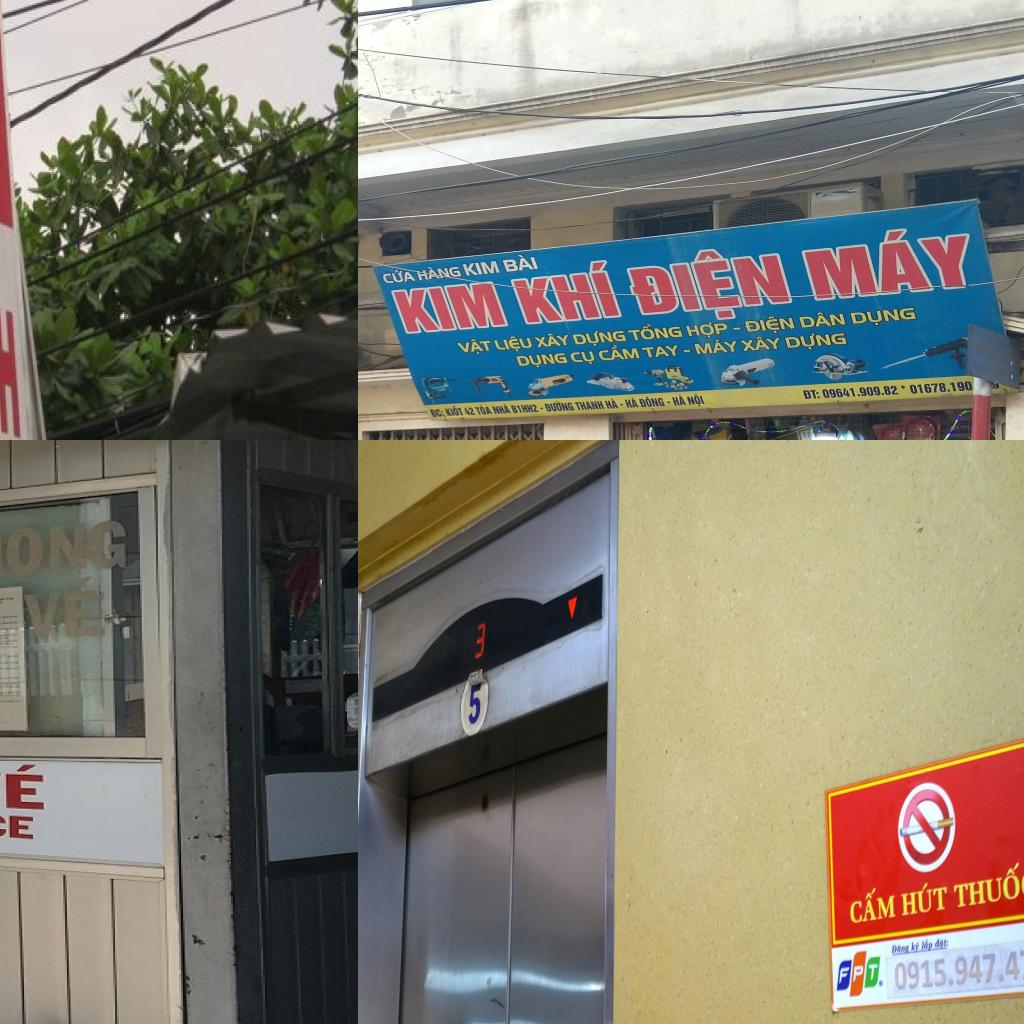text: (618, 241, 798, 326), (796, 218, 974, 303), (0, 517, 131, 581), (507, 258, 624, 326), (390, 281, 510, 335), (22, 573, 101, 642), (952, 854, 1024, 910), (0, 762, 49, 812), (847, 882, 899, 928), (899, 875, 948, 922), (848, 306, 920, 329), (782, 330, 851, 354), (0, 806, 36, 842), (624, 321, 685, 342), (821, 384, 901, 400), (570, 328, 629, 349), (742, 314, 798, 336), (796, 309, 848, 329), (514, 352, 571, 370), (908, 380, 974, 395), (684, 320, 732, 340), (467, 678, 485, 730), (596, 342, 642, 362), (492, 333, 535, 354), (691, 338, 740, 356), (413, 265, 464, 282), (472, 617, 490, 665), (500, 252, 540, 273), (453, 337, 492, 357), (460, 260, 502, 278), (740, 335, 782, 353), (381, 267, 418, 285), (533, 332, 569, 350), (639, 344, 680, 359), (568, 350, 598, 366), (542, 400, 576, 412), (637, 395, 667, 408), (573, 400, 607, 411), (685, 392, 707, 408), (508, 404, 541, 414), (932, 935, 950, 952), (442, 404, 465, 417), (490, 403, 513, 415), (891, 942, 910, 956), (473, 404, 494, 416), (920, 937, 934, 955), (800, 389, 822, 400), (670, 394, 688, 406), (623, 396, 640, 408), (428, 408, 447, 418), (603, 398, 620, 409), (910, 938, 921, 954), (463, 406, 477, 417), (1018, 347, 1024, 361)
